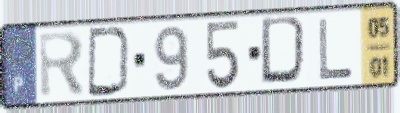5: (204, 18, 241, 91)
9: (150, 24, 191, 93)
D: (259, 14, 312, 88), (85, 25, 134, 98)
L: (316, 17, 356, 82)
R: (37, 28, 88, 101)
